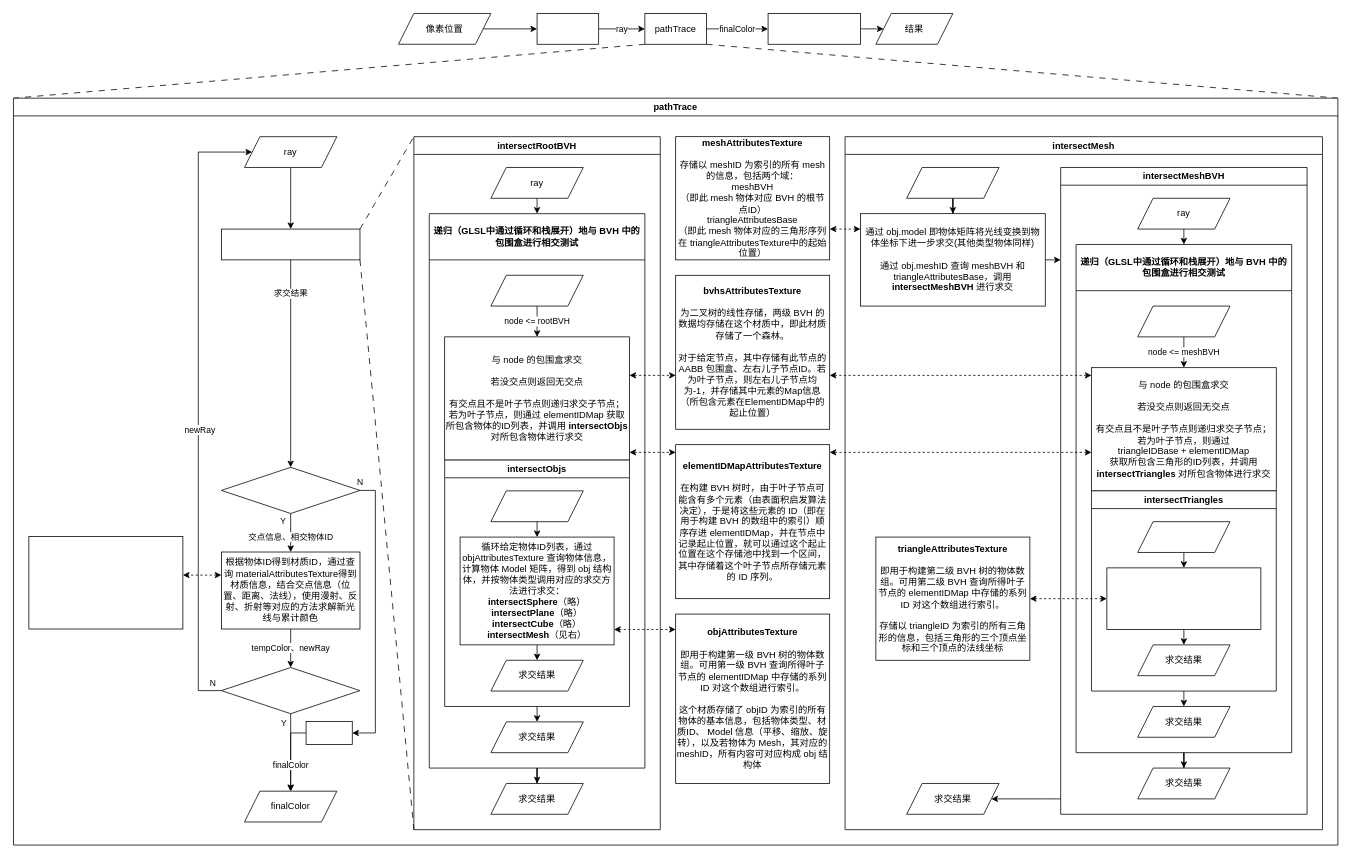
Image size: 1352x859. Some labels were removed from this diagram. Each missing label, with the centre of its shape:
materialAttributesTexture 存储材质信息，可以通过物体 ID 索引物体的材质ID，然后通过材质ID 在这里查询材质信息。: [105,582]
ray, obj: [952,182]
ray, objIDs List: [536,506]
ray, triangleIDs List: [1183,536]
ray，meshBVH: [1183,321]
ray，rootBVH: [536,290]
与场景有无交点: [290,490]
到达指定迭代次数 或与光源相交: [290,690]
循环给定三角形ID列表，通过 triangleAttributesTexture 查询三角形信息，并使用 intersectTriangle （略）进行求交: [1183,598]
根据像素位置生成初始光线: [567,28]
混合本次路径追踪 结果与此前结果: [813,28]
环境贴图求交: [328,733]
调用 intersectRootBVH 对场景即一级 BVH 尝试求交: [290,244]
